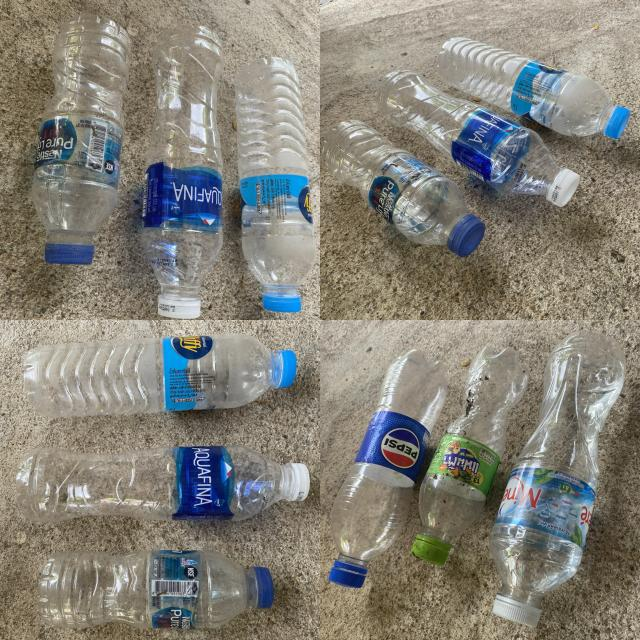plastik: (490, 331, 626, 626), (329, 350, 448, 587), (376, 70, 579, 206), (411, 348, 528, 565), (32, 15, 131, 264), (141, 25, 222, 319), (16, 445, 310, 522), (24, 334, 296, 417), (322, 120, 485, 257), (235, 58, 316, 312), (438, 38, 629, 138), (38, 550, 274, 629)
